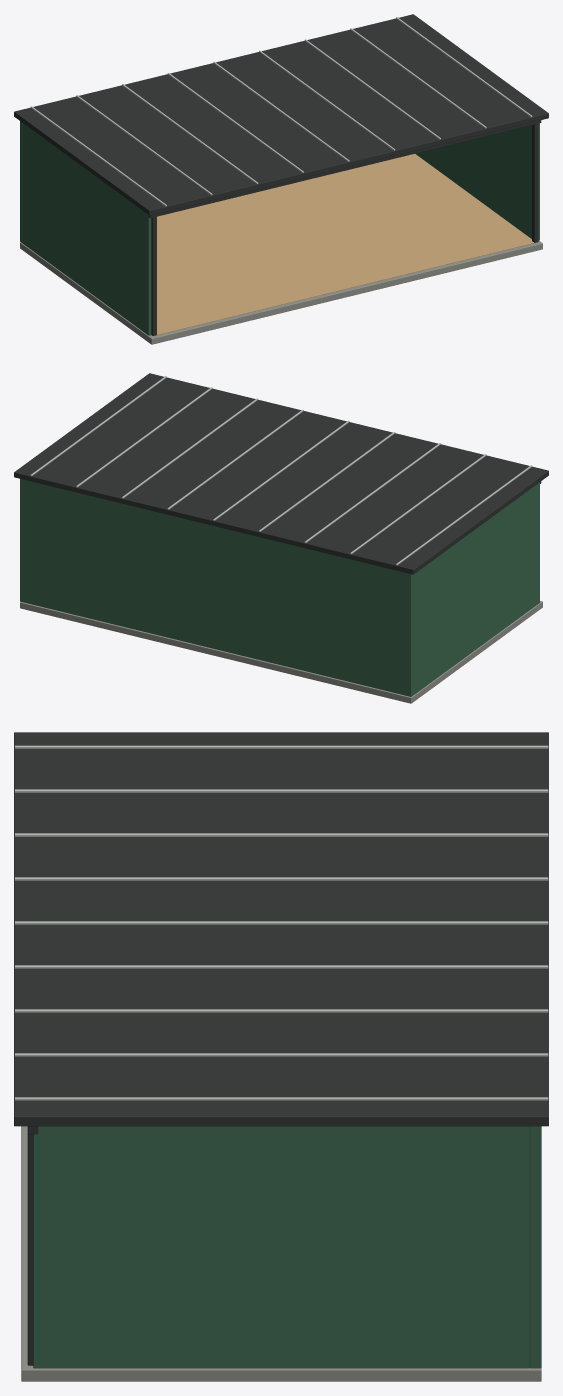
File: sawmill-and-timber-yard-roofed-sawmill-shed-969174e0__31155.glb
The picture shows the model from 3 angles, top to bottom: view 1: azimuth 30°, elevation 25°; view 2: azimuth 150°, elevation 25°; view 3: azimuth 270°, elevation 25°; orthographic projection. The views are drawn at different scales.
Visible parts, largest first — view 1: roofed-sawmill-shed; view 2: roofed-sawmill-shed; view 3: roofed-sawmill-shed.
Boxes of the visible parts, x1=… form: roofed-sawmill-shed: x1=14, y1=14, x2=548, y2=344; roofed-sawmill-shed: x1=14, y1=373, x2=548, y2=703; roofed-sawmill-shed: x1=14, y1=732, x2=548, y2=1381.
Size of the model in its own units: 12.25 by 4.03 by 7.2.
